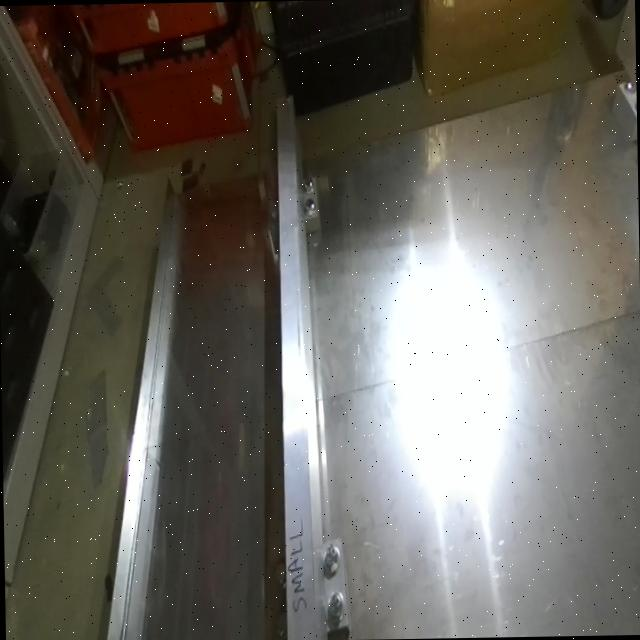blocks: (258, 526, 353, 640), (258, 168, 336, 249), (606, 73, 638, 161)
